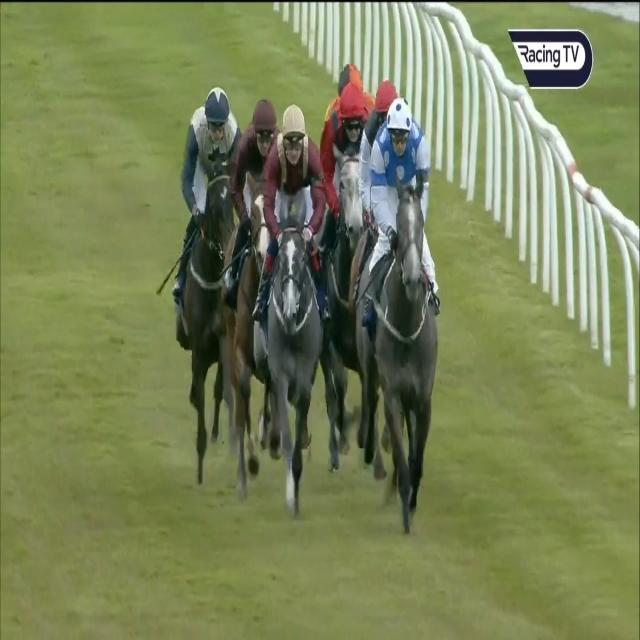horses-racing: (364, 100, 456, 578), (168, 65, 232, 516), (264, 110, 320, 516), (322, 78, 372, 498), (230, 89, 272, 529), (358, 62, 396, 180)
